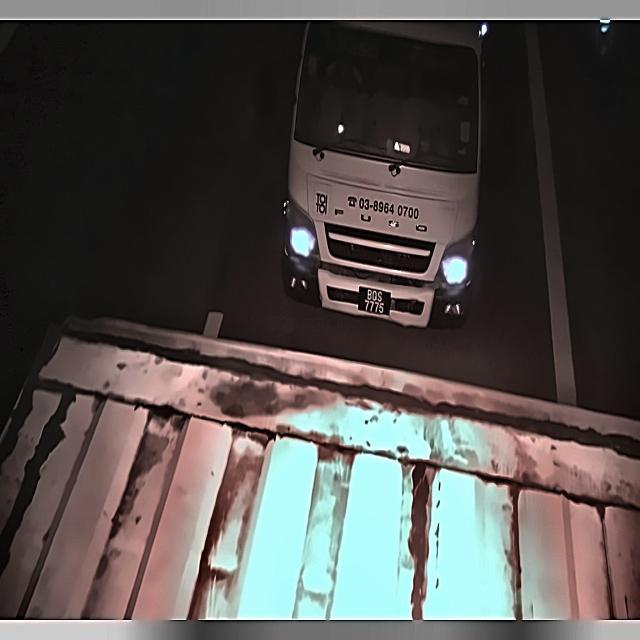car: (355, 280, 393, 322)
